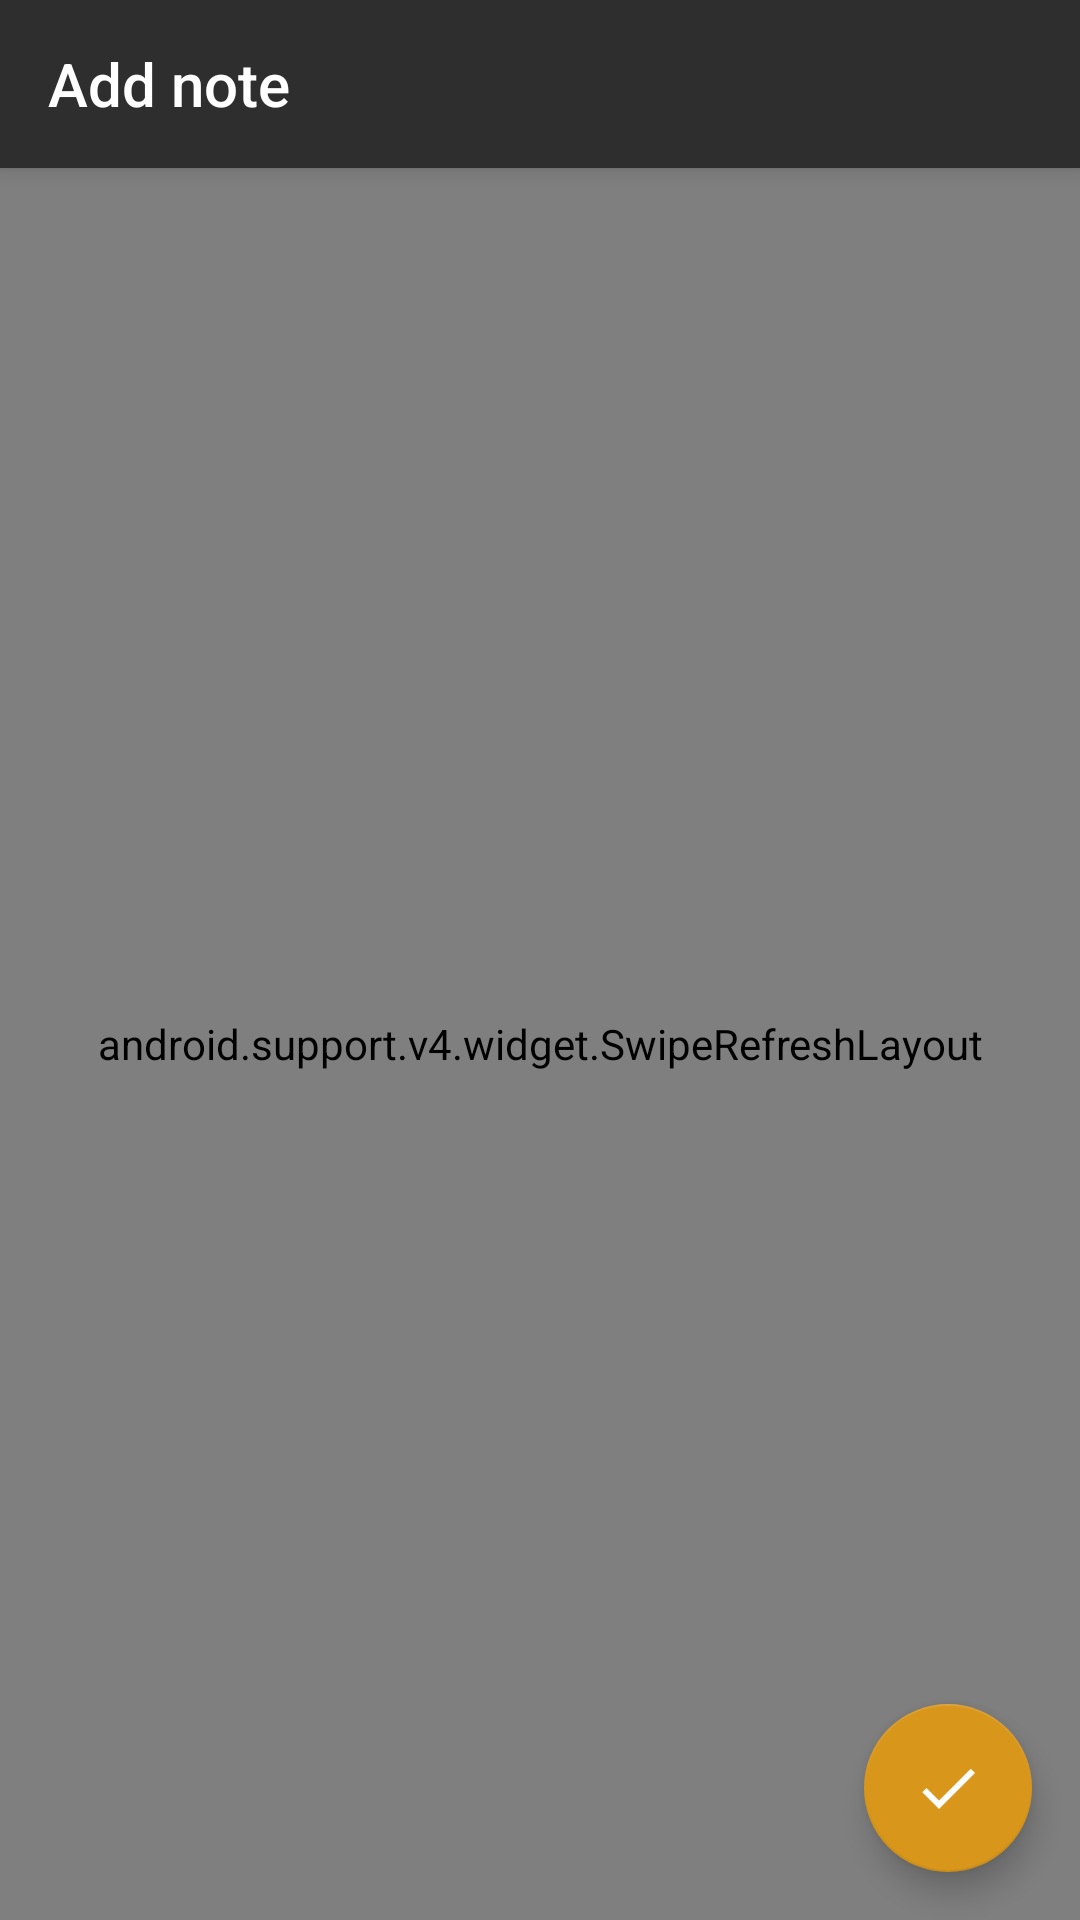

Where to tap for icons on this 1080w x 1920h app screen, as point (x, y):
check inverted: point (948, 1788)
